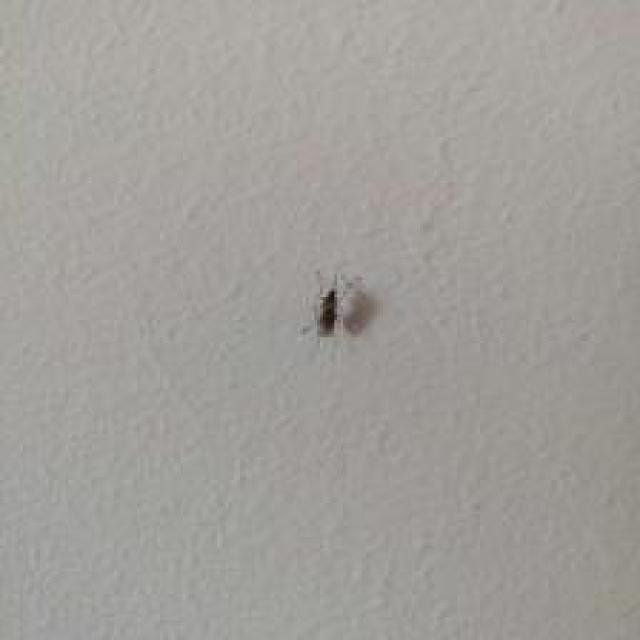Culex: (314, 286, 340, 337)
